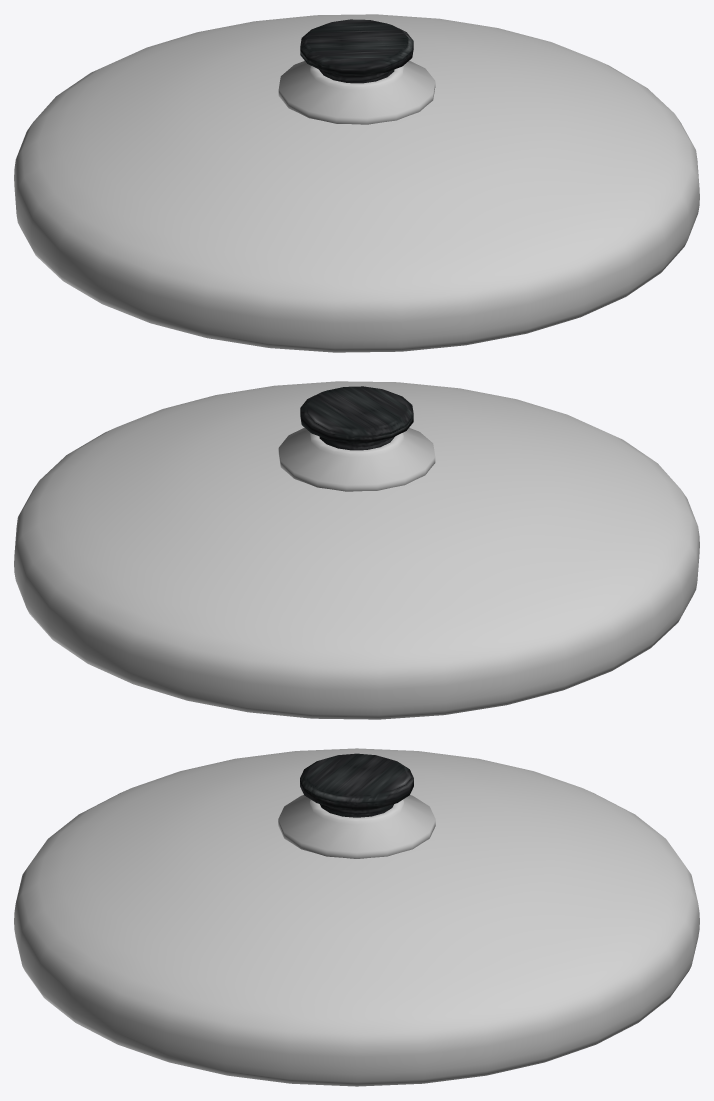
The model's file is lid.fbx.
3 views of the same model, one above another, from view 1: azimuth 30°, elevation 25°; view 2: azimuth 150°, elevation 25°; view 3: azimuth 270°, elevation 25° (orthographic).
Parts seen in each view (by area): view 1: Lid (exterior), Bottom of Handle, Top of Handle; view 2: Lid (exterior), Bottom of Handle, Top of Handle; view 3: Lid (exterior), Bottom of Handle, Top of Handle.
Part boxes in pixels (x1=…): Lid (exterior): x1=14, y1=14, x2=699, y2=352; Bottom of Handle: x1=278, y1=60, x2=435, y2=124; Top of Handle: x1=300, y1=19, x2=413, y2=83; Lid (exterior): x1=14, y1=381, x2=699, y2=719; Bottom of Handle: x1=278, y1=427, x2=435, y2=491; Top of Handle: x1=300, y1=386, x2=413, y2=450; Lid (exterior): x1=14, y1=748, x2=699, y2=1086; Bottom of Handle: x1=278, y1=795, x2=435, y2=858; Top of Handle: x1=300, y1=753, x2=413, y2=817.
Size of the model in its own units: 0.9998 by 0.2743 by 0.9998.
